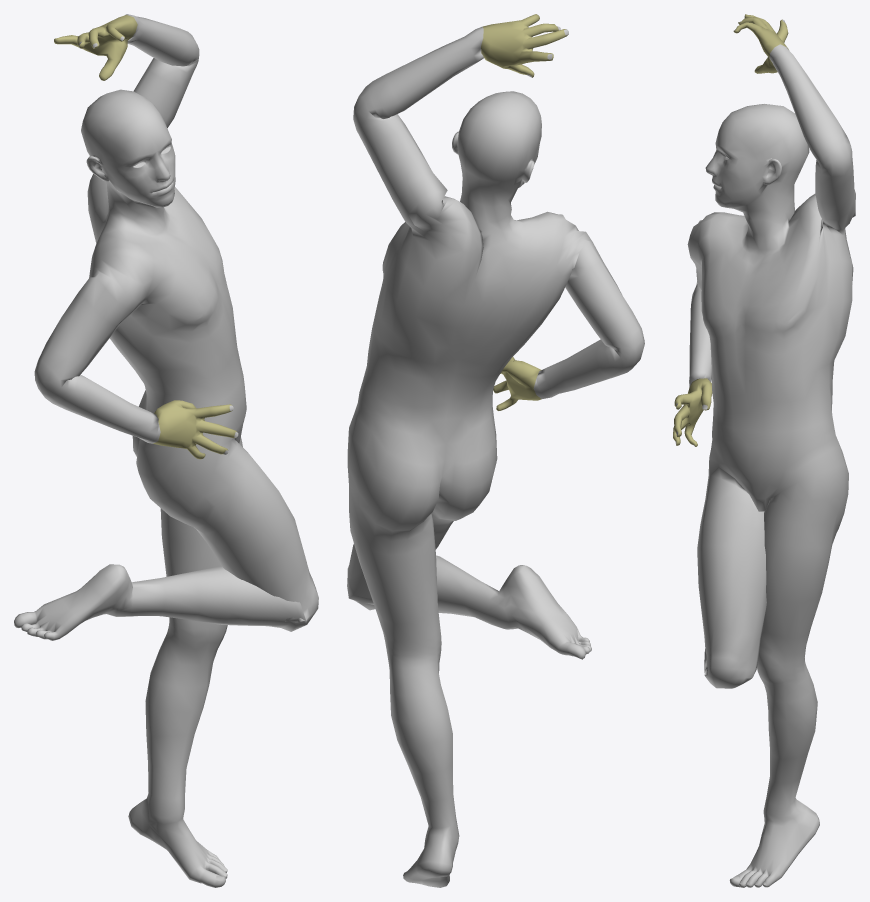
The model's file is ref2.glb.
3 views of the same model, side by side, from view 1: azimuth 30°, elevation 25°; view 2: azimuth 150°, elevation 25°; view 3: azimuth 270°, elevation 25° (orthographic). The views are drawn at different scales.
Parts seen in each view (by area): view 1: man001; view 2: man001; view 3: man001.
Boxes of the visible parts, x1,y1,x2,y2 form: man001: [14, 14, 318, 887]; man001: [347, 14, 644, 887]; man001: [673, 14, 855, 887].
Bounding box in the file's own units: 0.6826 × 2.02 × 0.4083.
